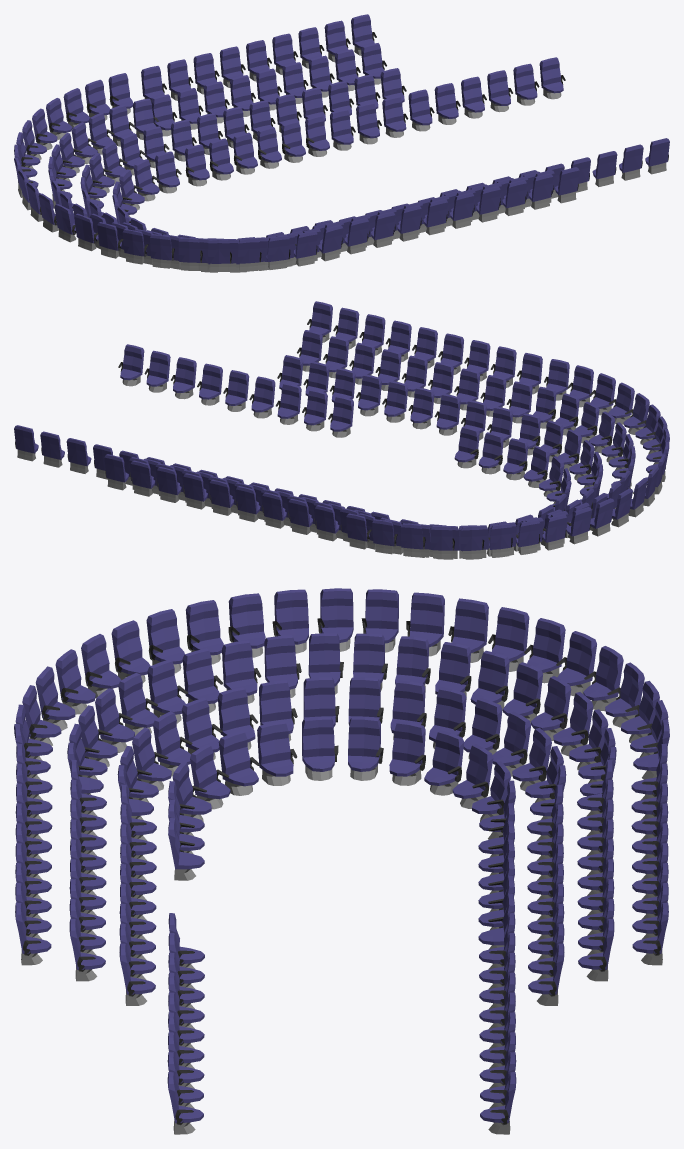
Rendered from Seats2.fbx.
3 views of the same model, one above another, from view 1: azimuth 30°, elevation 25°; view 2: azimuth 150°, elevation 25°; view 3: azimuth 270°, elevation 25° (orthographic). The views are drawn at different scales.
Parts seen in each view (by area): view 1: Seat; view 2: Seat; view 3: Seat.
Boxes of the visible parts, box(x1,y1,x2,y2) form: Seat: box(14, 14, 669, 272); Seat: box(14, 301, 669, 559); Seat: box(14, 588, 669, 1134).
Size of the model in its own units: 1122 by 140 by 717.
1 material, 1 textured.
